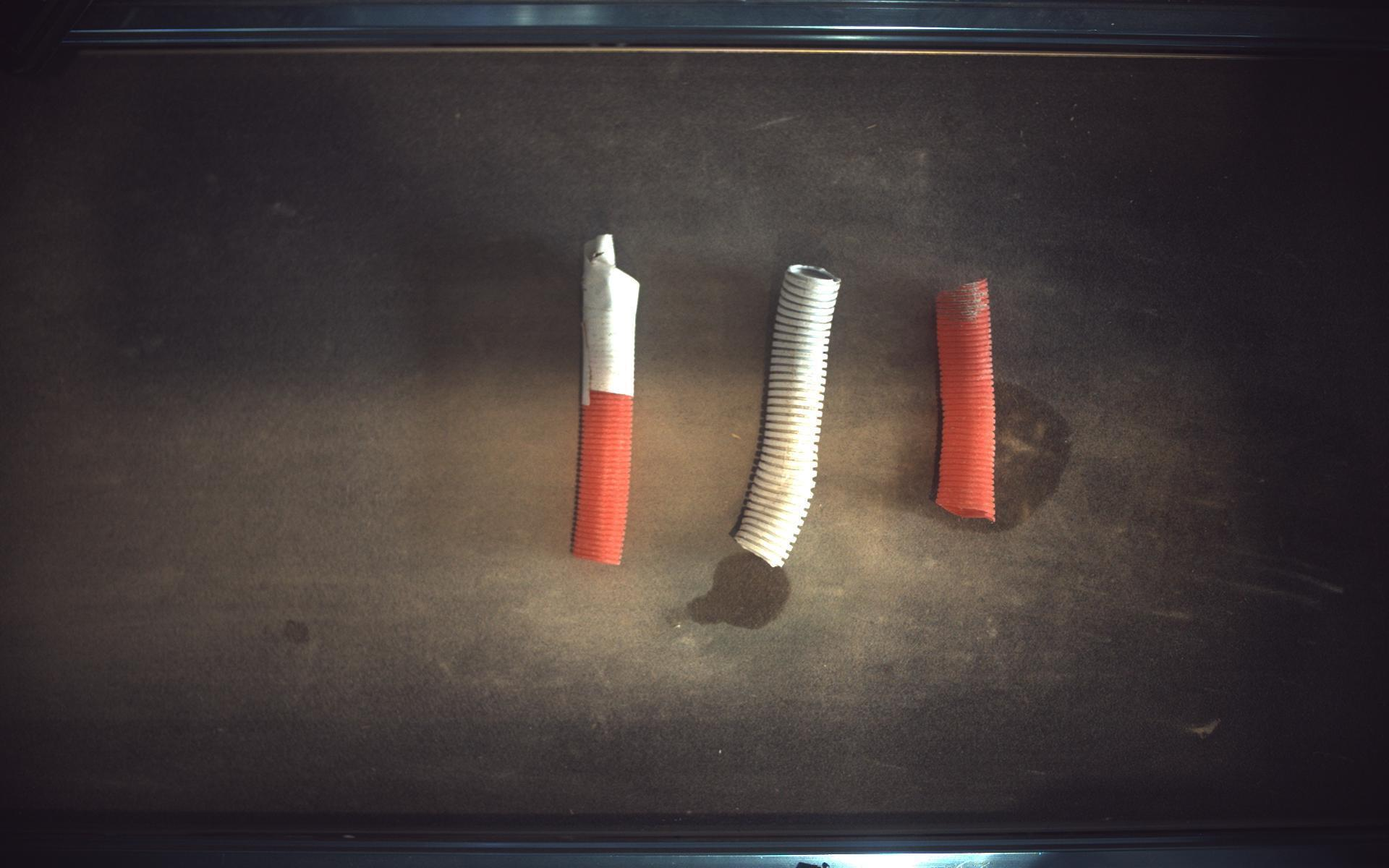pipes: (734, 264, 842, 567), (572, 234, 640, 566), (938, 278, 998, 522)
